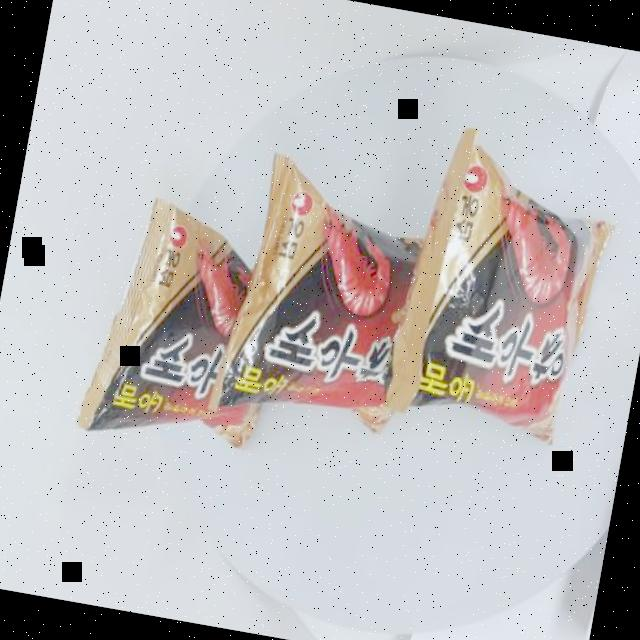snack_bag: (61, 63, 634, 520)
